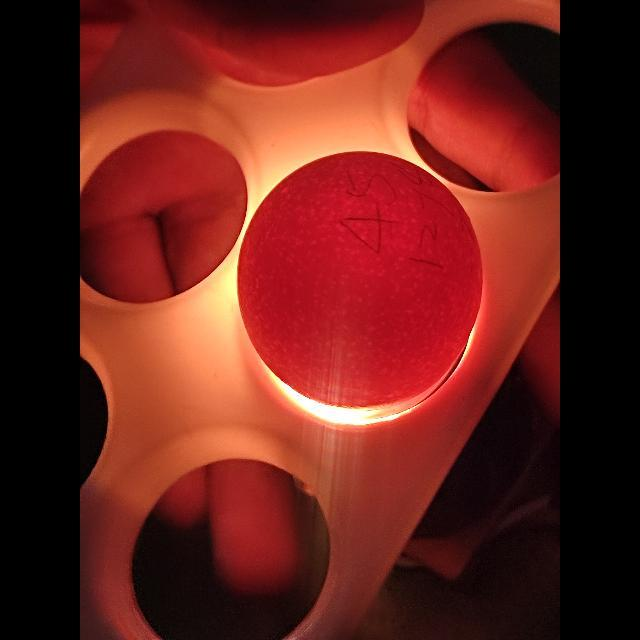Infertile: (238, 153, 482, 413)
